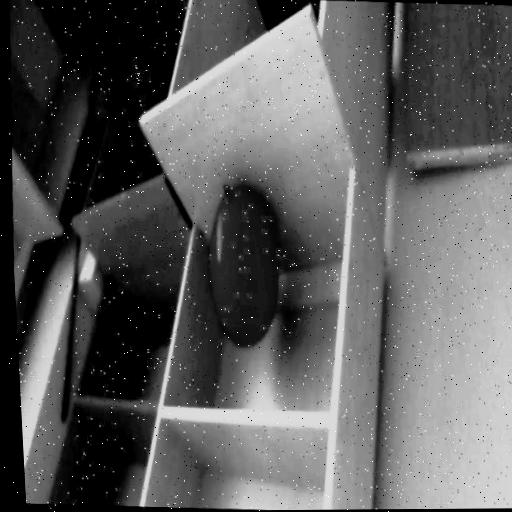balloon: (191, 178, 291, 361)
